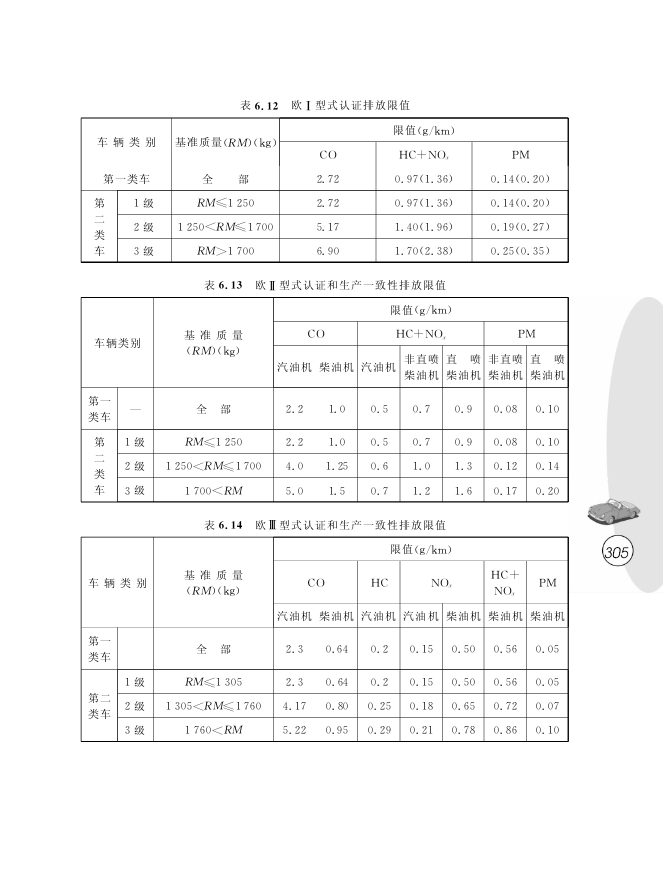table: (80, 296, 569, 502), (80, 536, 569, 741), (80, 117, 569, 262)
